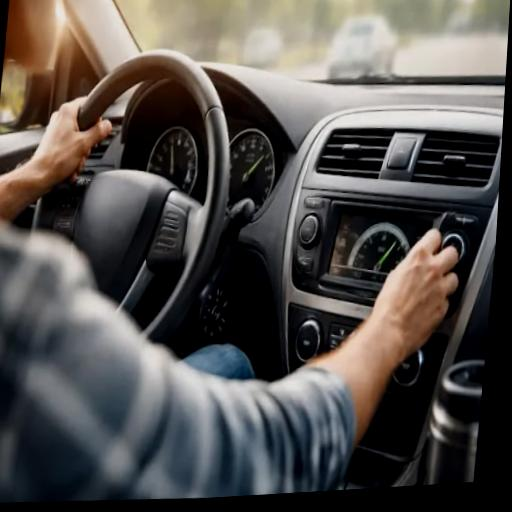Hands-on-the-Wheel: (6, 75, 138, 214)
